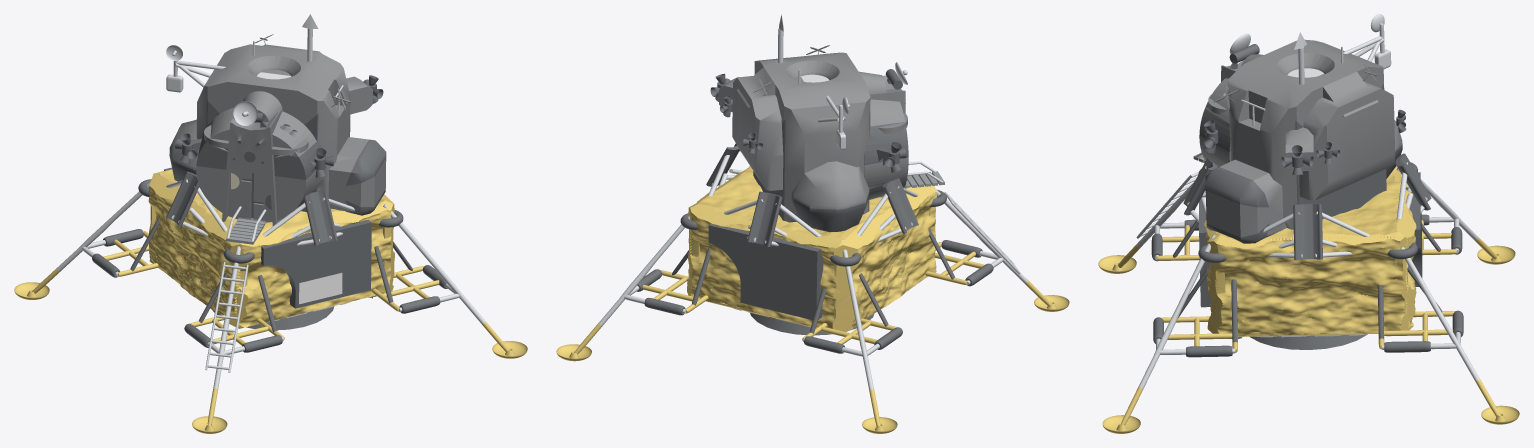
File: eagleModule.glb
3 views of the same model, side by side, from view 1: azimuth 30°, elevation 25°; view 2: azimuth 150°, elevation 25°; view 3: azimuth 270°, elevation 25° (orthographic). The views are drawn at different scales.
Visible parts, largest first — view 1: Object_2; view 2: Object_2; view 3: Object_2.
Part boxes in pixels (x1,y1,x2,y2): Object_2: (14, 14, 527, 433); Object_2: (556, 14, 1069, 433); Object_2: (1098, 14, 1519, 433).
Bounding box in the file's own units: 154 × 136 × 154.
